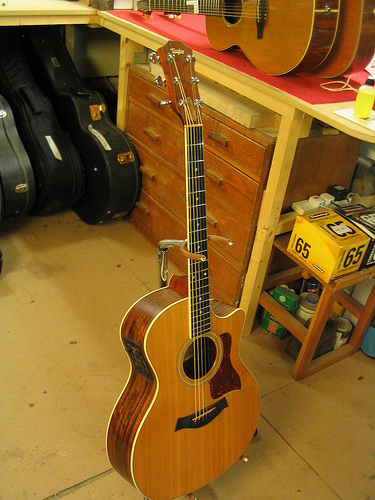guitar: (104, 37, 261, 500), (131, 1, 341, 80)
